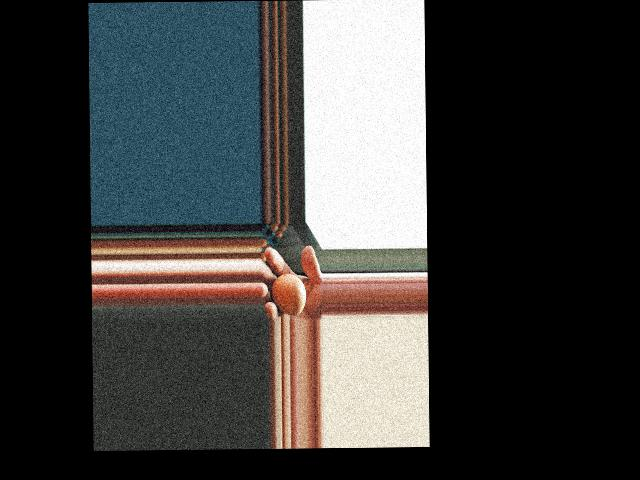egg: (270, 273, 305, 317)
